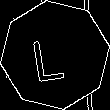L_N: (36, 27, 74, 83)
